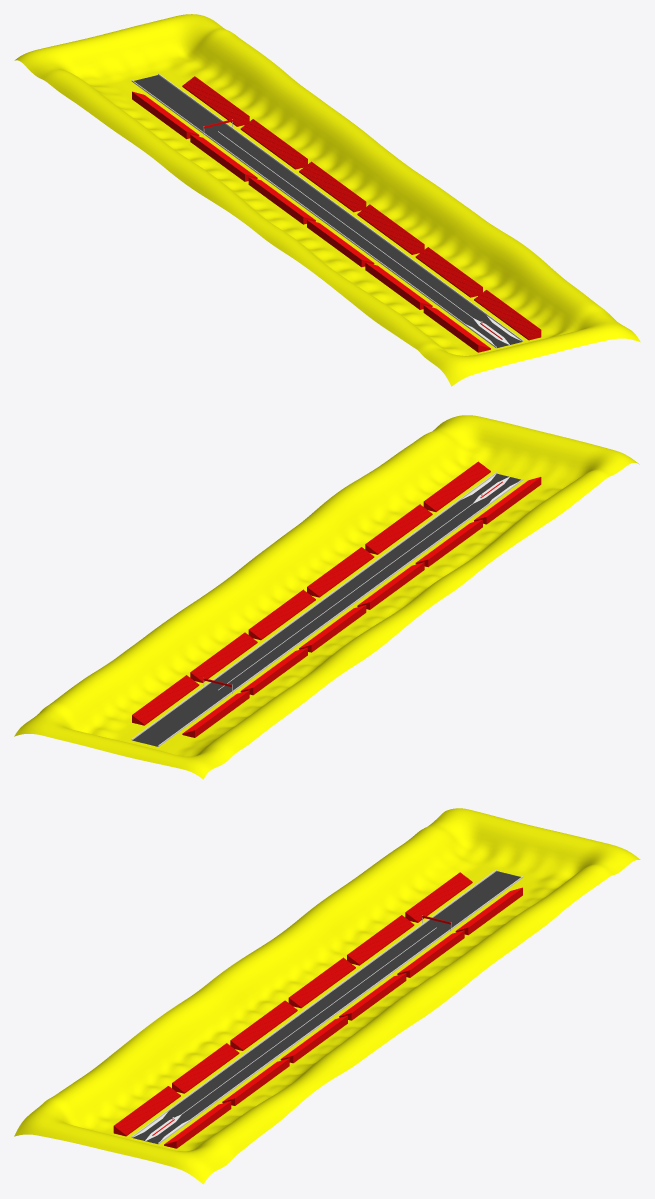
File: DRAG TRACK 2X.fbx
The picture shows the model from 3 angles, top to bottom: view 1: azimuth 30°, elevation 25°; view 2: azimuth 150°, elevation 25°; view 3: azimuth 330°, elevation 25°; orthographic projection.
Visible parts, largest first — view 1: TERRAIN, TRACK; view 2: TERRAIN, TRACK; view 3: TERRAIN, TRACK.
Boxes of the visible parts, x1,y1,x2,y2 form: TERRAIN: (14,14,640,386); TRACK: (131,73,541,352); TERRAIN: (14,415,639,779); TRACK: (131,461,541,746); TERRAIN: (14,808,640,1184); TRACK: (113,869,523,1148).
Size of the model in its own units: 60495 by 7356 by 240000.
